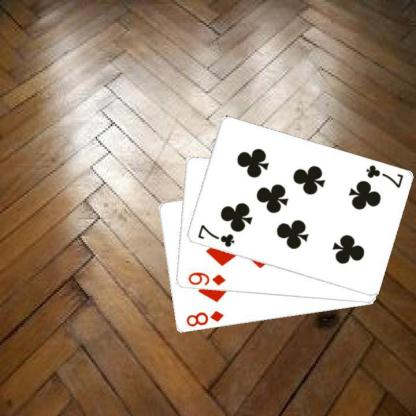7C: (363, 162, 404, 190), (195, 222, 236, 248)
8D: (183, 309, 225, 328)
9D: (185, 270, 226, 287)
